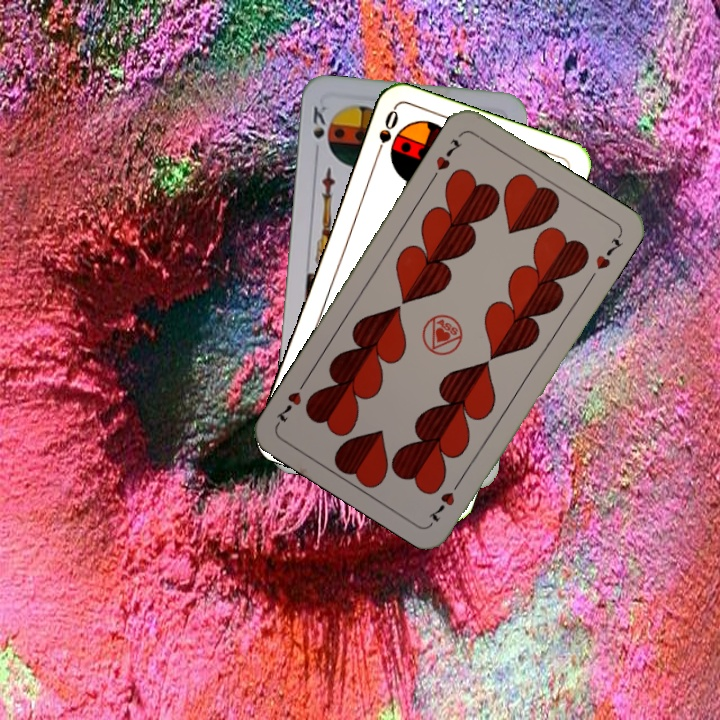H7: (425, 474, 465, 526), (427, 135, 464, 183)
SK: (309, 102, 331, 141)
SO: (370, 106, 401, 163)
